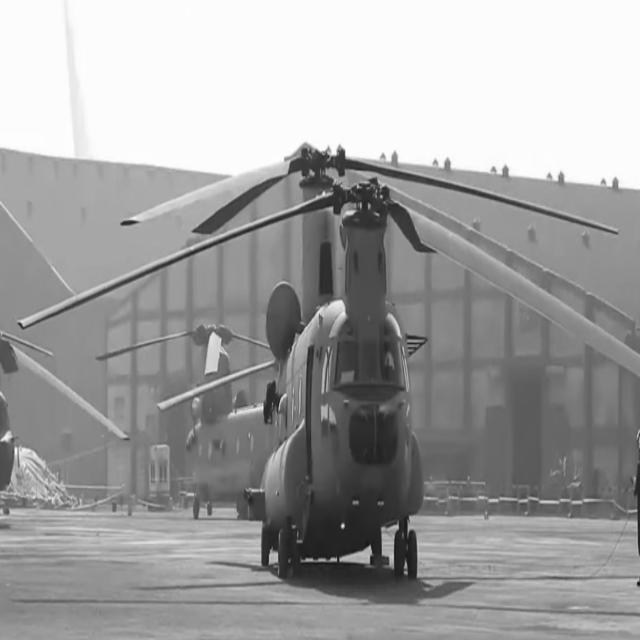Helicopter: (22, 144, 640, 578)
